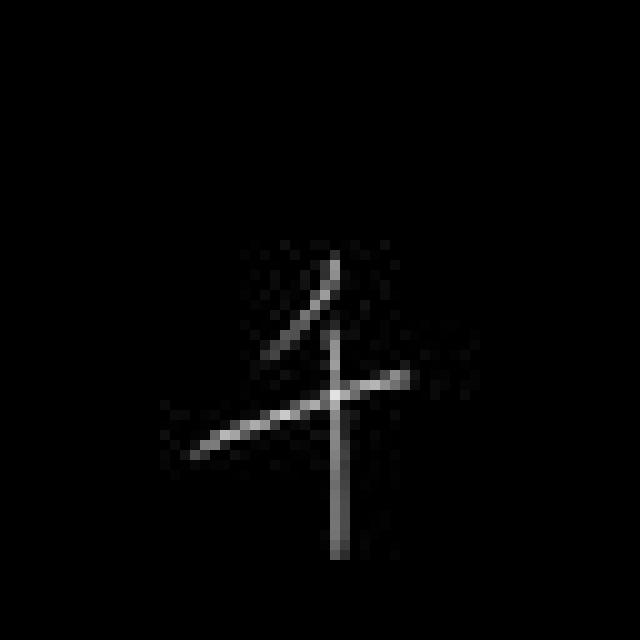1000 -a thousand-: (180, 255, 418, 570)
